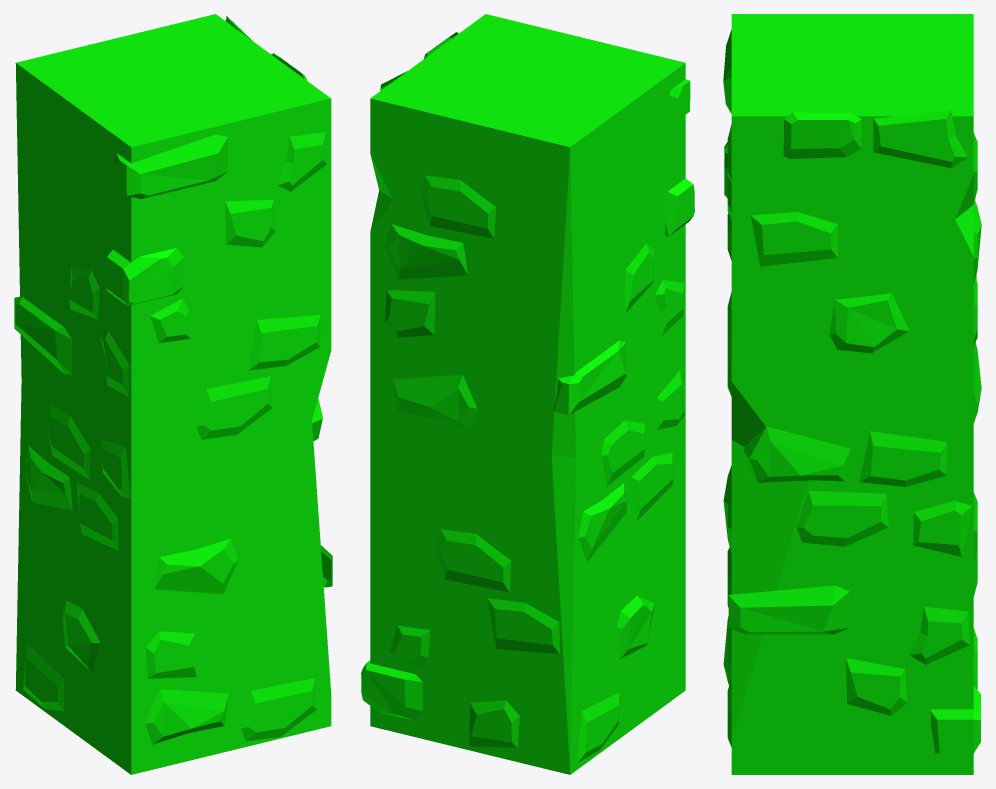
Rendered from SM_Chimney_3m_A_Fantasy.fbx.
3 renders of one model, left to right at view 1: azimuth 30°, elevation 25°; view 2: azimuth 150°, elevation 25°; view 3: azimuth 270°, elevation 25°, orthographic. The views are drawn at different scales.
Parts seen in each view (by area): view 1: chimney-3m-a-fantasy; view 2: chimney-3m-a-fantasy; view 3: chimney-3m-a-fantasy.
Boxes of the visible parts, <box> form: chimney-3m-a-fantasy: <box>14,14,332,774</box>; chimney-3m-a-fantasy: <box>361,14,694,774</box>; chimney-3m-a-fantasy: <box>723,14,981,774</box>.
Bounding box in the file's own units: 1.08 × 3.03 × 1.07.
